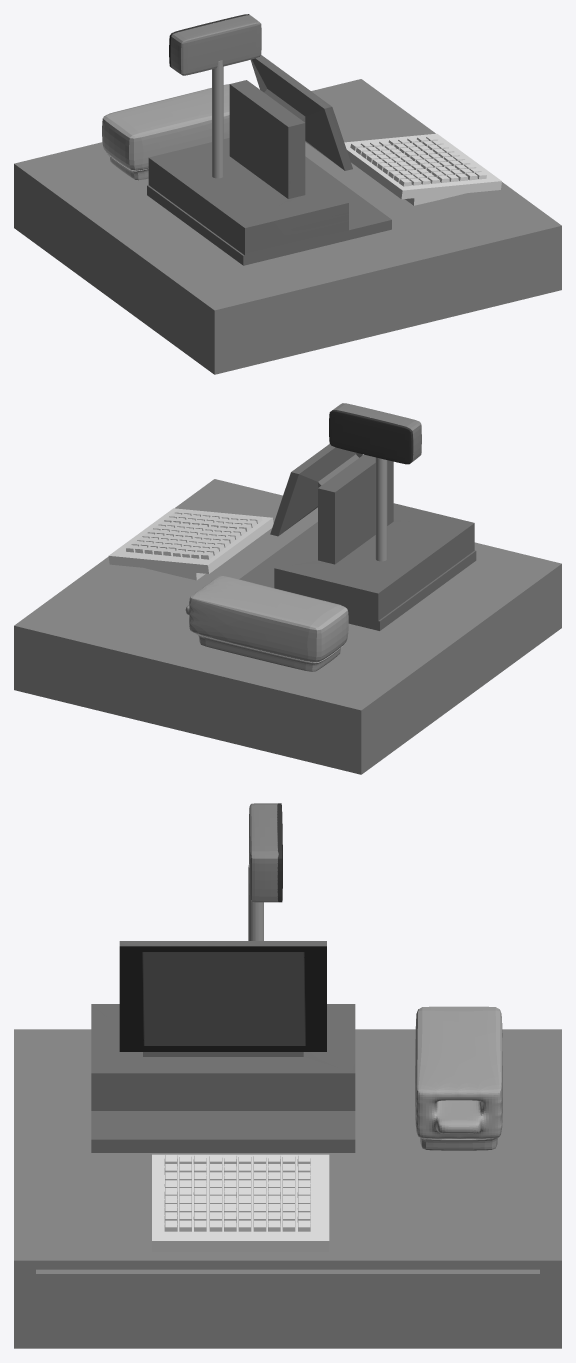
Rendered from rezi 1.fbx.
The picture shows the model from 3 angles, top to bottom: view 1: azimuth 30°, elevation 25°; view 2: azimuth 150°, elevation 25°; view 3: azimuth 270°, elevation 25°; orthographic projection. The views are drawn at different scales.
Visible parts, largest first — view 1: Cube, Cube.001, Cube.002, Cube.004, Cube.003, Cylinder; view 2: Cube, Cube.001, Cube.002, Cube.004, Cube.003, Cylinder; view 3: Cube, Cube.001, Cube.002, Cube.003, Cube.004, Cylinder.
Part boxes in pixels (left/top/right/bottom): Cube: left=14, top=79, right=561, bottom=374; Cube.001: left=147, top=55, right=391, bottom=265; Cube.002: left=102, top=84, right=229, bottom=180; Cube.004: left=169, top=14, right=261, bottom=75; Cube.003: left=344, top=133, right=501, bottom=205; Cylinder: left=212, top=60, right=223, bottom=178; Cube: left=14, top=479, right=561, bottom=774; Cube.001: left=239, top=444, right=476, bottom=630; Cube.002: left=185, top=575, right=348, bottom=671; Cube.004: left=329, top=403, right=421, bottom=464; Cube.003: left=108, top=508, right=273, bottom=580; Cylinder: left=375, top=457, right=387, bottom=561; Cube: left=14, top=1029, right=561, bottom=1348; Cube.001: left=91, top=941, right=355, bottom=1152; Cube.002: left=415, top=1006, right=502, bottom=1150; Cube.003: left=152, top=1154, right=329, bottom=1251; Cube.004: left=249, top=803, right=282, bottom=902; Cylinder: left=248, top=865, right=263, bottom=940.
Size of the model in its own units: 204 by 142 by 200.
